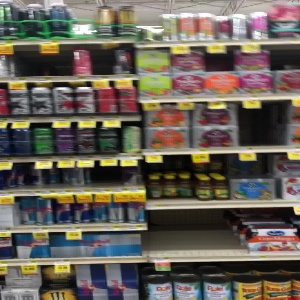void: (148, 206, 245, 257), (239, 99, 284, 148), (15, 44, 70, 78), (91, 44, 113, 77)
